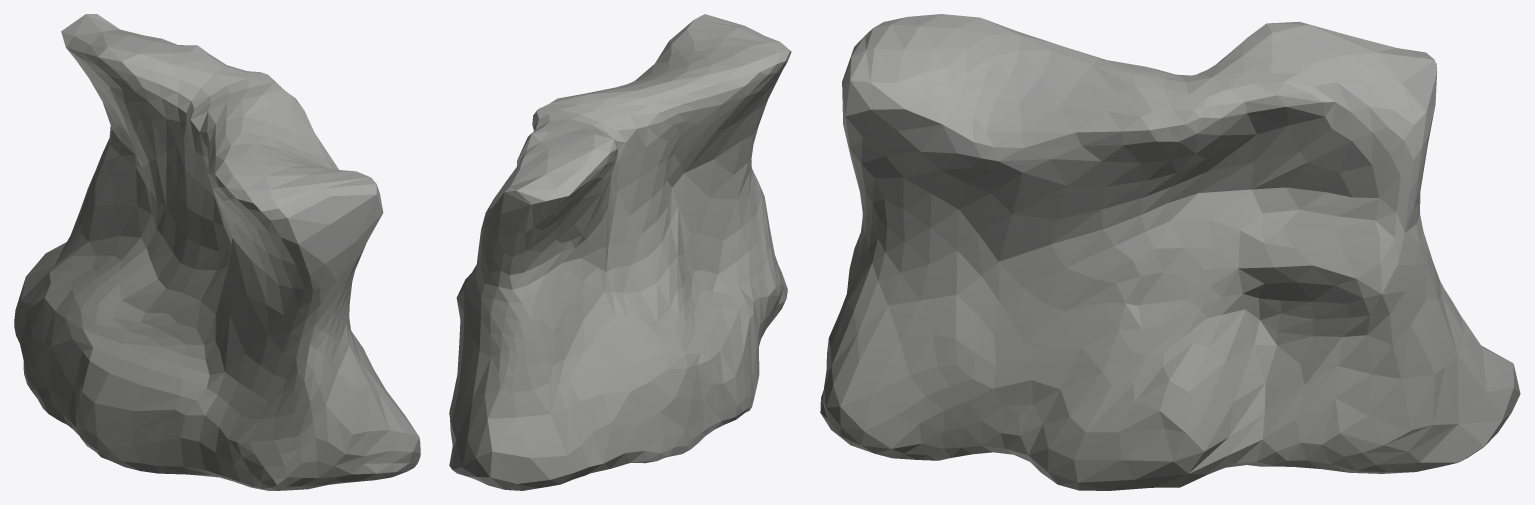
The model's file is Cavern_Wall_Middle-01.fbx.
3 views of the same model, side by side, from view 1: azimuth 30°, elevation 25°; view 2: azimuth 150°, elevation 25°; view 3: azimuth 270°, elevation 25° (orthographic). The views are drawn at different scales.
Parts seen in each view (by area): view 1: Cavern_Wall_Middle-01; view 2: Cavern_Wall_Middle-01; view 3: Cavern_Wall_Middle-01.
Boxes of the visible parts, x1,y1,x2,y2 form: Cavern_Wall_Middle-01: (14,14,420,490); Cavern_Wall_Middle-01: (449,14,791,490); Cavern_Wall_Middle-01: (820,14,1520,490).
Size of the model in its own units: 1088 by 1308 by 2102.
1 material, 1 textured.
